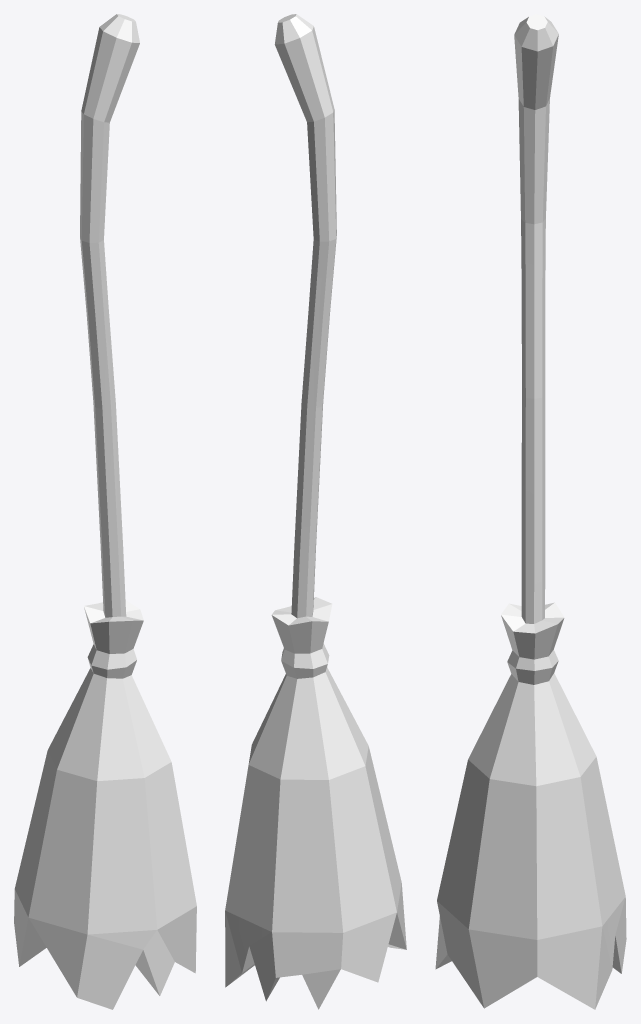
The model's file is bromer.fbx.
3 renders of one model, left to right at view 1: azimuth 30°, elevation 25°; view 2: azimuth 150°, elevation 25°; view 3: azimuth 270°, elevation 25°, orthographic.
Visible parts, largest first — view 1: Broom.003; view 2: Broom.003; view 3: Broom.003.
Boxes of the visible parts, x1=… form: Broom.003: x1=14, y1=14, x2=196, y2=1009; Broom.003: x1=225, y1=14, x2=406, y2=1009; Broom.003: x1=435, y1=14, x2=626, y2=1009.
Size of the model in its own units: 7.57 by 42.56 by 7.56.
